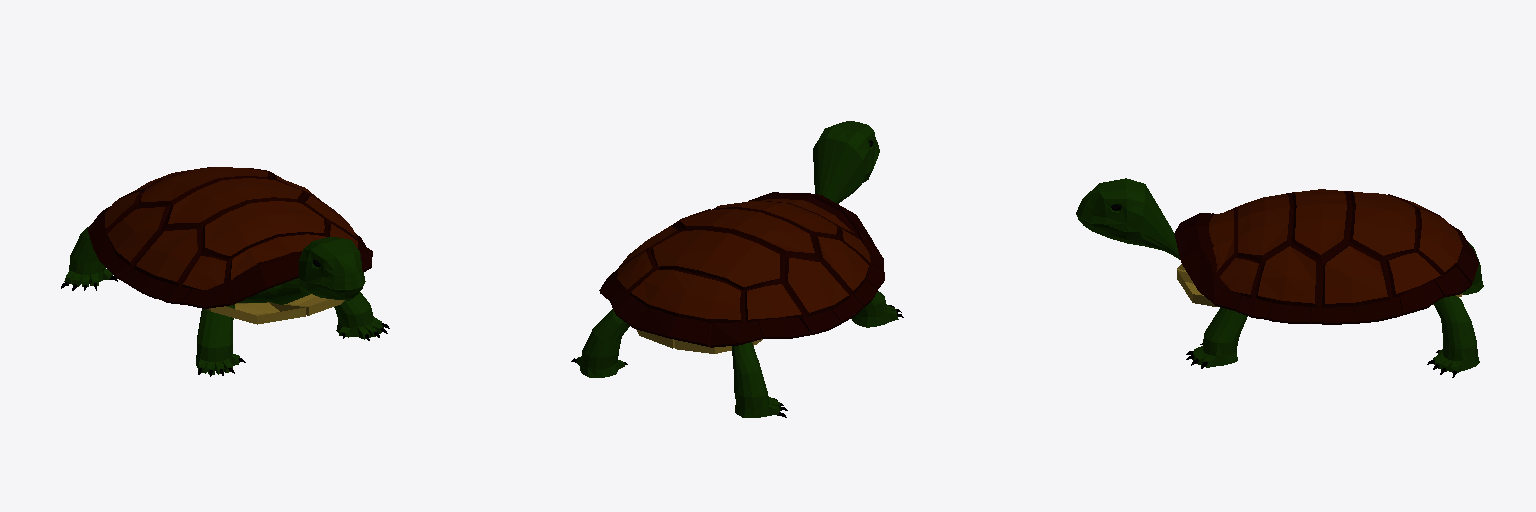
Rendered from turtle.obj.
The picture shows the model from 3 angles: view 1: azimuth 30°, elevation 25°; view 2: azimuth 150°, elevation 25°; view 3: azimuth 270°, elevation 25°; orthographic projection.
Parts seen in each view (by area): view 1: Shell.002_turtle.033; view 2: Shell.002_turtle.033; view 3: Shell.002_turtle.033.
Boxes of the visible parts, box(x1,y1,x2,y2) form: Shell.002_turtle.033: box(61, 167, 389, 376); Shell.002_turtle.033: box(571, 121, 903, 417); Shell.002_turtle.033: box(1076, 178, 1483, 377).
Bounding box in the file's own units: 1.81 × 1.09 × 2.81.